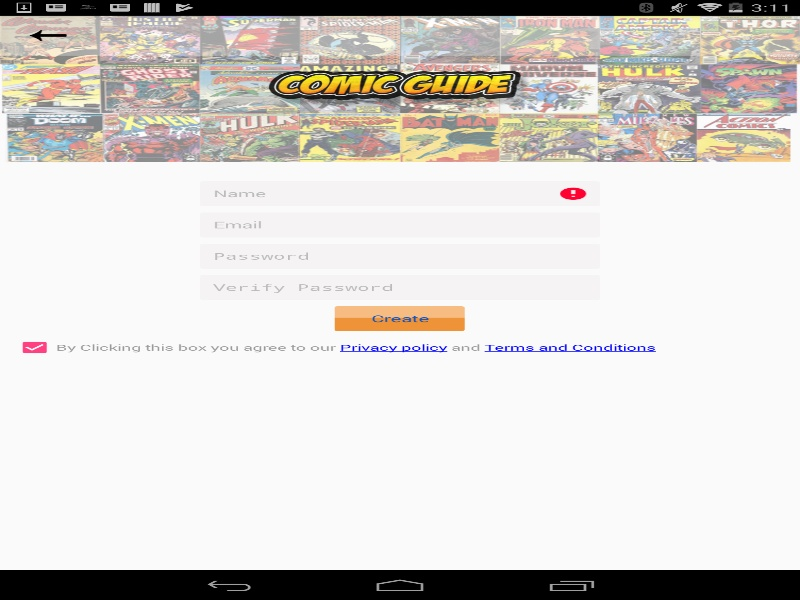Button: (334, 306, 465, 331), (10, 15, 85, 55)
Input: (200, 181, 600, 206), (200, 212, 600, 237), (200, 243, 600, 268), (200, 275, 600, 300)
